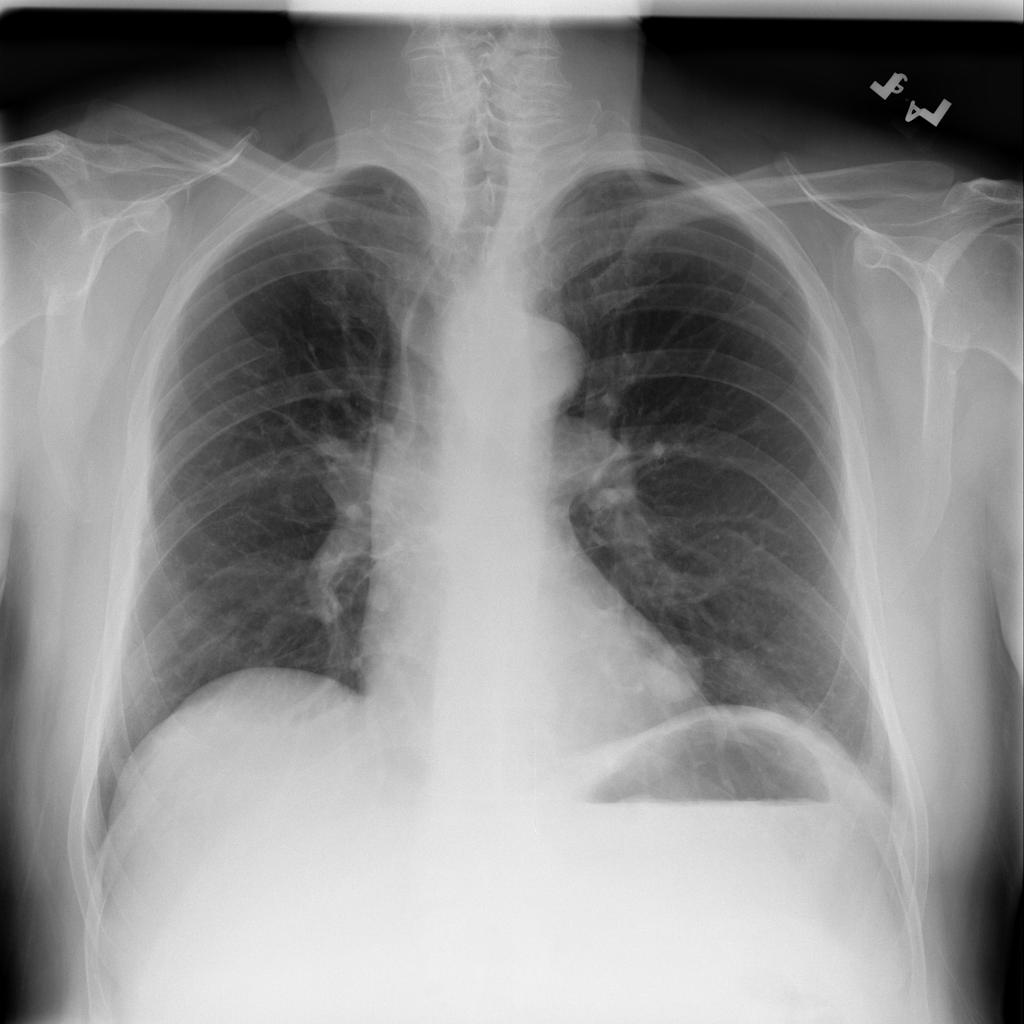nodule: (631, 629, 710, 710)
